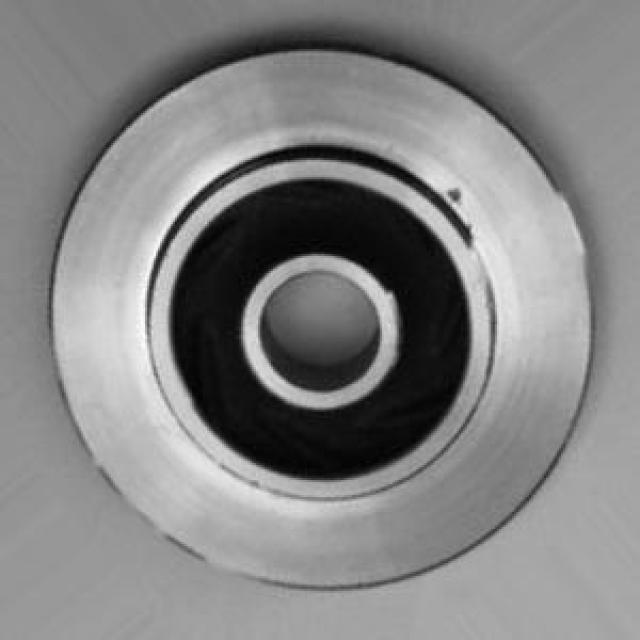Defect: (444, 178, 470, 220)
